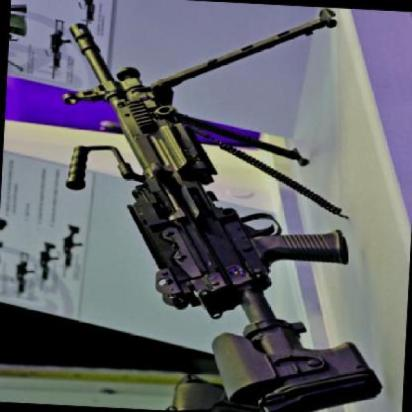Gun: (85, 0, 363, 412), (60, 222, 89, 275), (46, 23, 71, 81), (10, 250, 36, 298), (38, 237, 60, 286), (74, 0, 108, 24)
